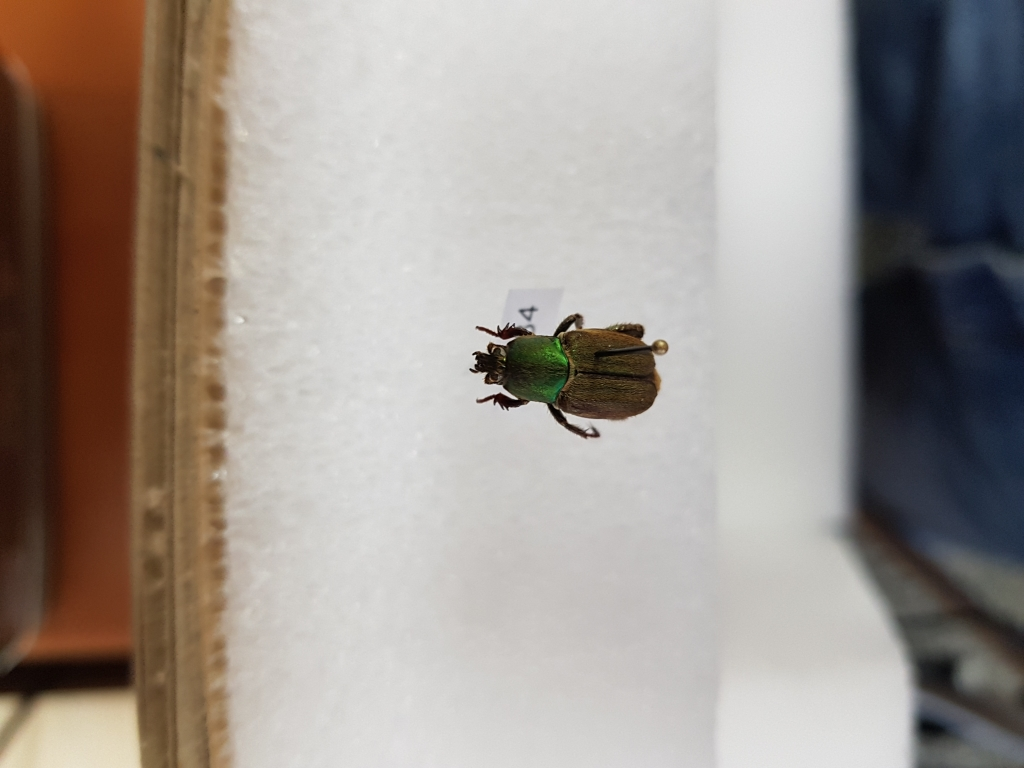Glaphyrus_superbus: (466, 304, 681, 443)
